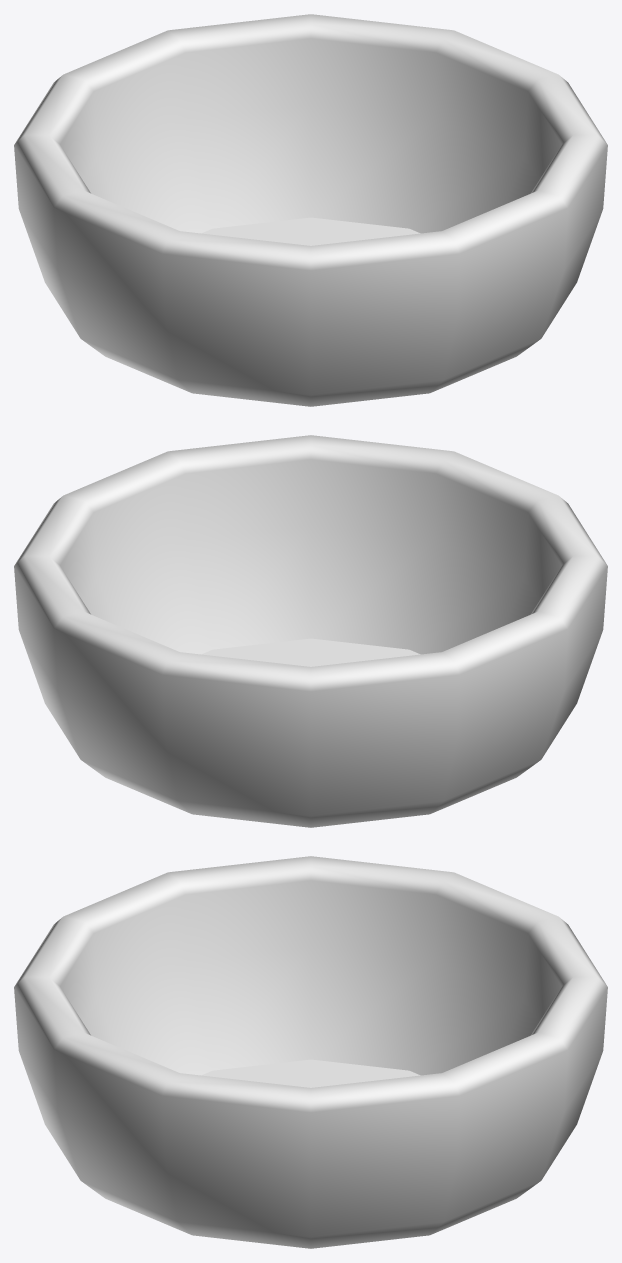
The model's file is prop_087.fbx.
3 renders of one model, top to bottom at view 1: azimuth 30°, elevation 25°; view 2: azimuth 150°, elevation 25°; view 3: azimuth 270°, elevation 25°, orthographic.
Parts seen in each view (by area): view 1: prop_087; view 2: prop_087; view 3: prop_087.
Part boxes in pixels (bbox=[...]): prop_087: bbox=[14, 14, 607, 406]; prop_087: bbox=[14, 435, 607, 827]; prop_087: bbox=[14, 856, 607, 1248].
Bounding box in the file's own units: 40.74 × 40.74 × 12.97.
